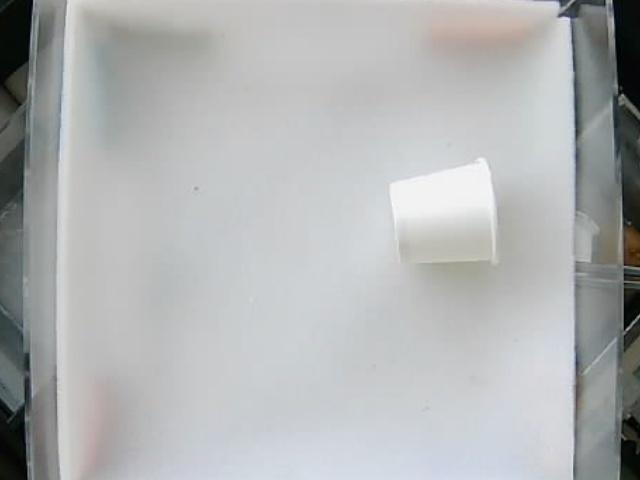Cup: (388, 155, 500, 268)
